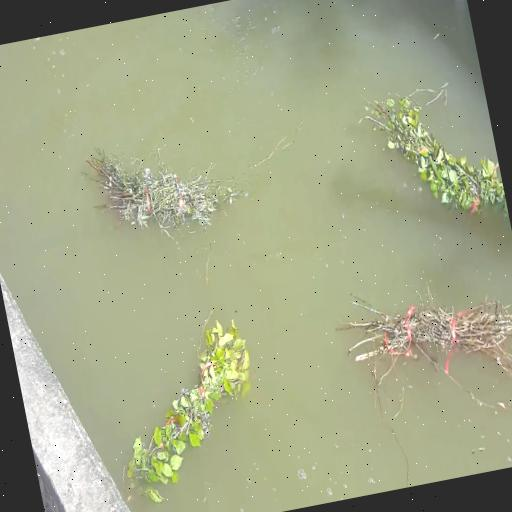twig: (96, 307, 282, 500), (331, 256, 512, 397), (359, 75, 507, 228), (92, 131, 260, 236)
